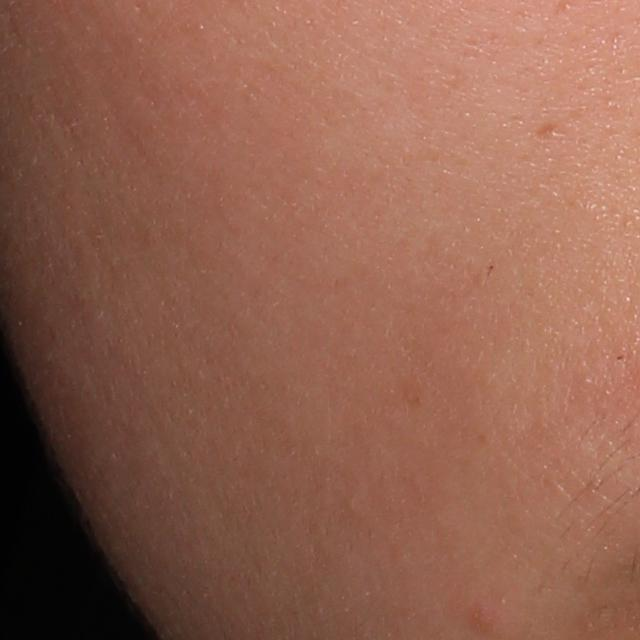atrophic_scar: (531, 120, 572, 146)
papule: (456, 599, 502, 639)
